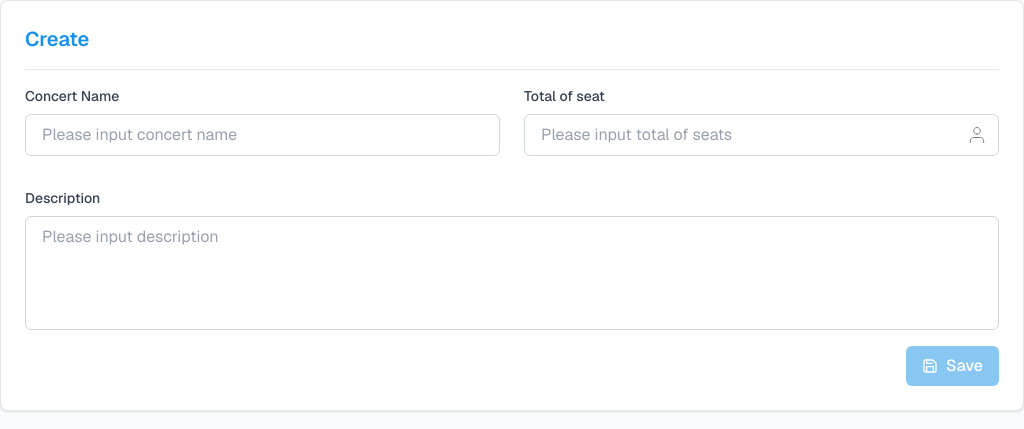
Test: CreateCard › displays error message on creation failure
Step 1. Type "Test Concert" into the field with placeholder "Please input concert name" → (262, 135), box [25,114,500,156]
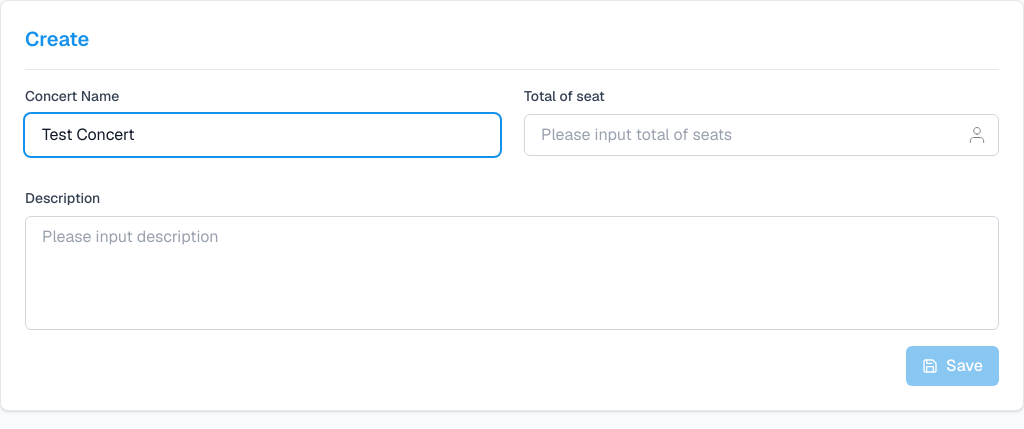
Step 2. Type "100" into the number field with placeholder "Please input total of seats" → (762, 135), box [524,114,999,156]
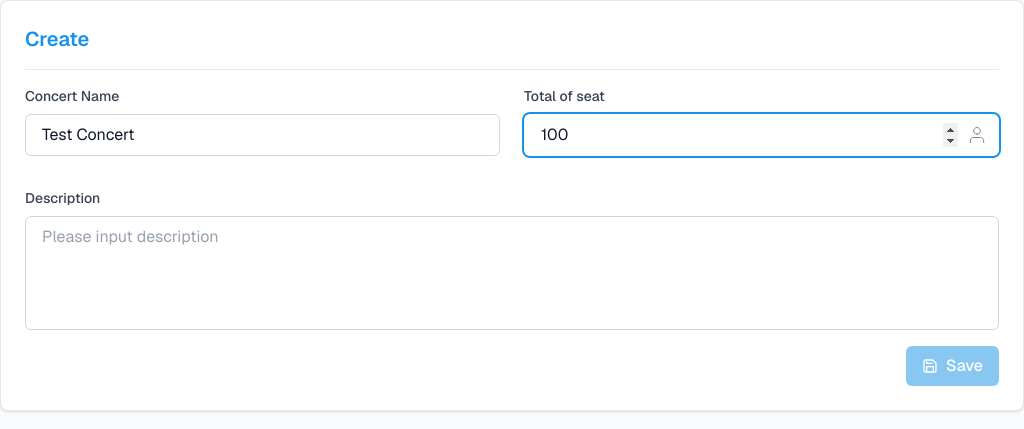
Step 3. Type "Test description" into the text box with placeholder "Please input description" → (512, 273), box [25,216,999,330]
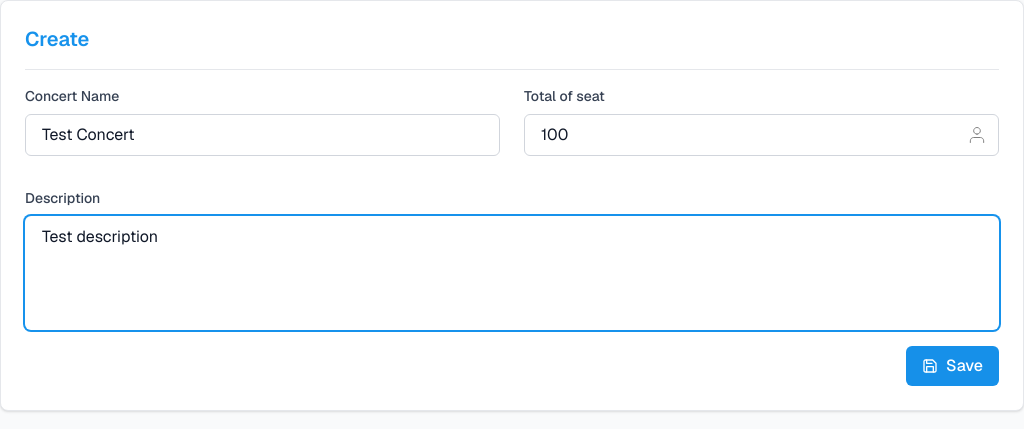
Step 4. Click the button "Save" → (952, 366), box [906,346,999,386]
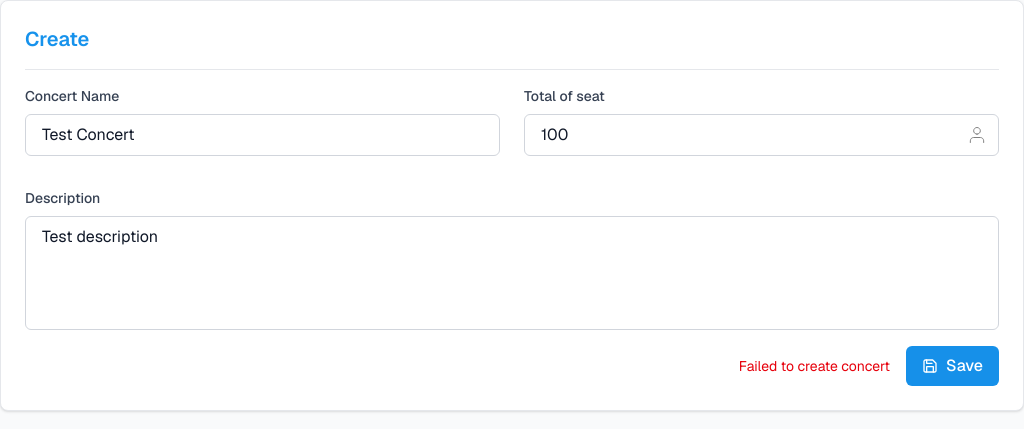
expect the text "Failed to create concert" is shown: met, box [739,357,890,375]
